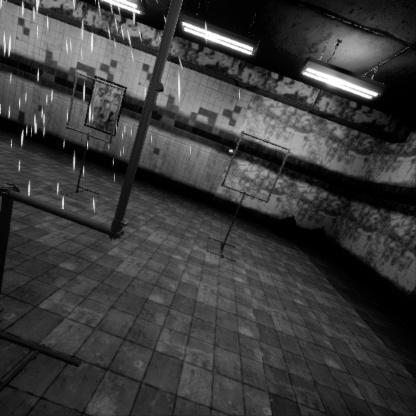gate: (221, 212, 295, 286), (66, 270, 128, 345)
